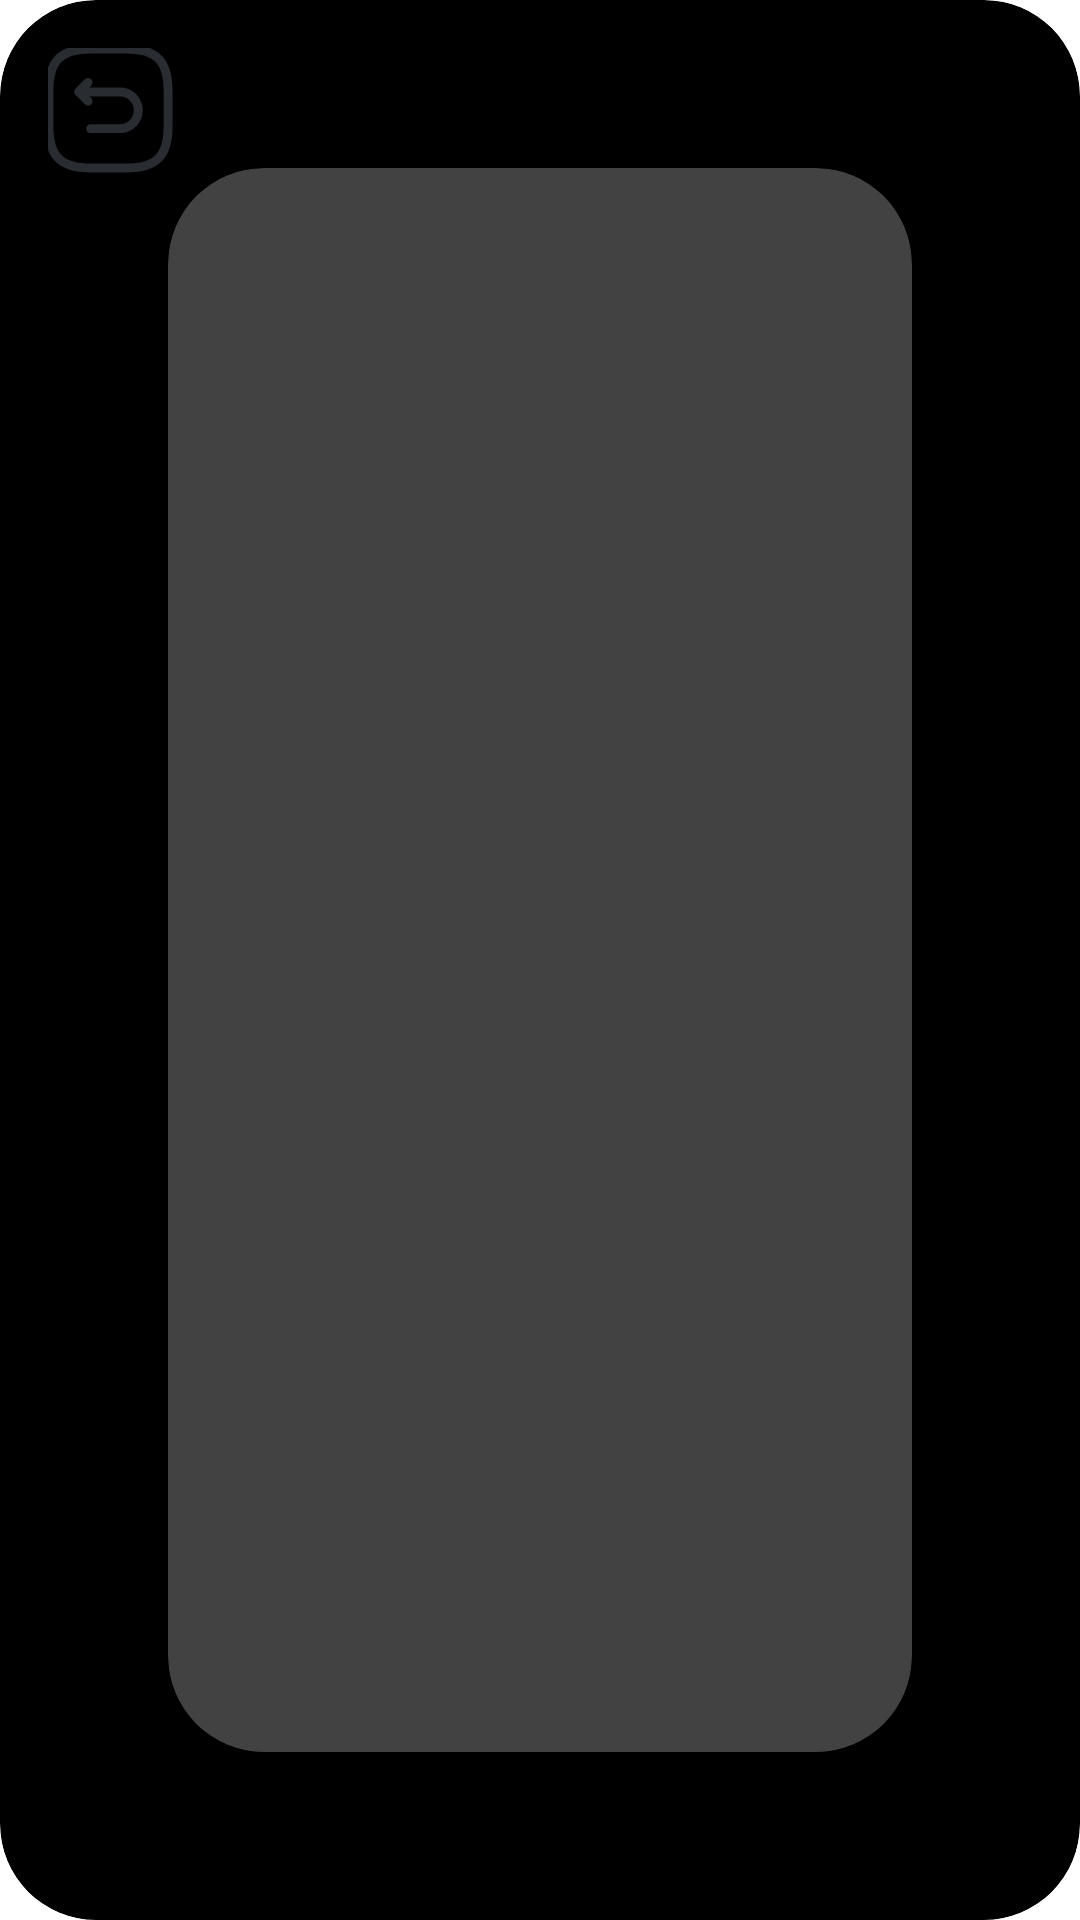

Icons on this 1080*1920 Android screen, each with the point to tap as (x,y):
back square: (110,110)
